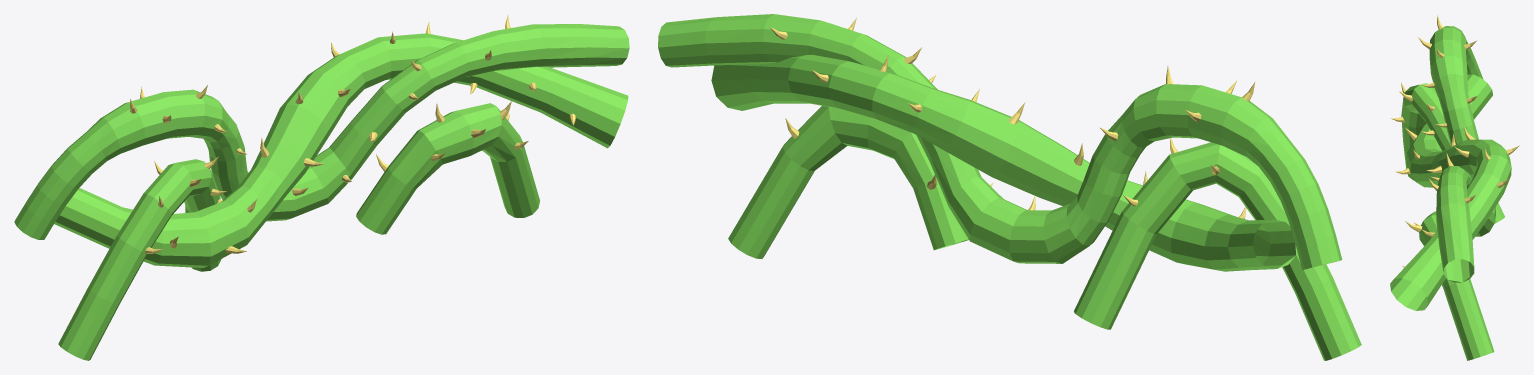
Rendered from ronce.FBX.
The picture shows the model from 3 angles, left to right: view 1: azimuth 30°, elevation 25°; view 2: azimuth 150°, elevation 25°; view 3: azimuth 270°, elevation 25°; orthographic projection. The views are drawn at different scales.
Visible parts, largest first — view 1: Line001, Line002, Line003, Line004; view 2: Line001, Line002, Line004, Line003; view 3: Line002, Line001, Line003, Line004.
Part boxes in pixels (x1,y1,x2,y2): Line001: (14,24,629,239); Line002: (54,33,628,267); Line003: (356,103,539,234); Line004: (58,159,221,360); Line001: (658,14,1342,270); Line002: (711,54,1296,271); Line004: (1074,142,1361,360); Line003: (728,105,968,258); Line002: (1390,74,1511,310); Line001: (1429,26,1495,282); Line003: (1419,211,1494,360); Line004: (1401,83,1504,223).
Size of the model in its own units: 572 by 217 by 136.
